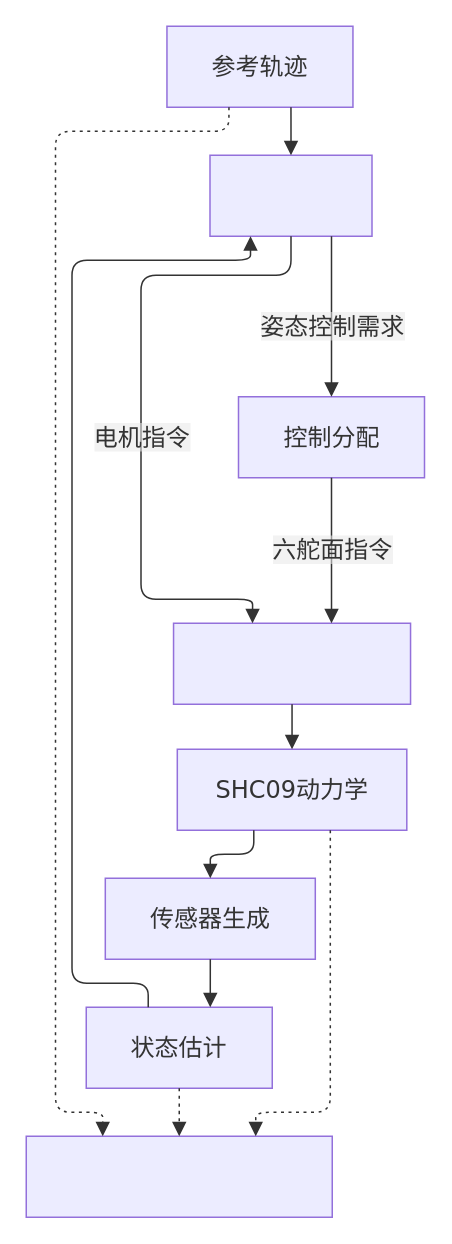
The diagram is 452 pixels wide and 1244 high, and some of its shapes have lost their labels. The box of each missing label's shape, as (x1, y1, x2, y2) in pixels:
执行器与PWM: (172, 622, 411, 704)
控制器: (208, 154, 372, 236)
离线评价与日志回放: (25, 1135, 332, 1217)
